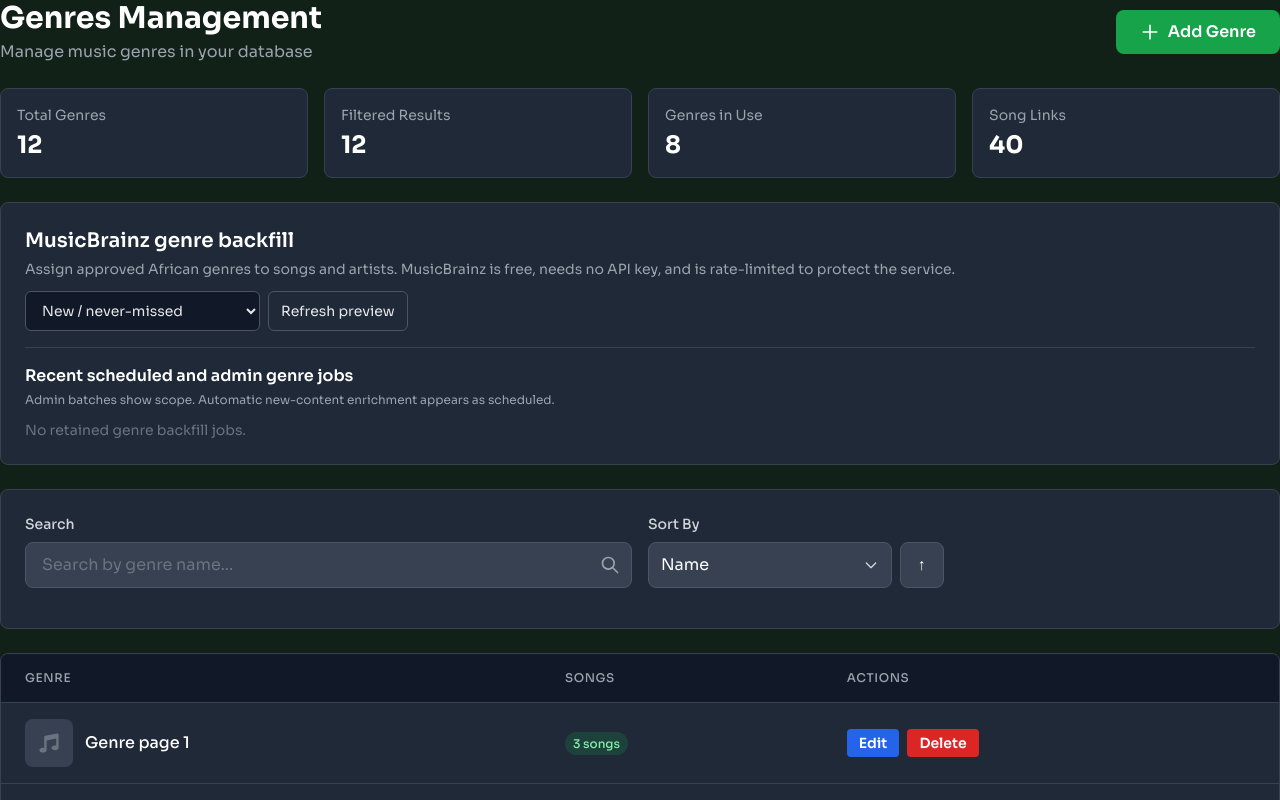
GenresManager › opens a row edit modal and saves changes through the admin API
This screenshot has width=1280, height=800.
Click the text "Genre page 1" at (137, 743), box [85, 731, 190, 755]
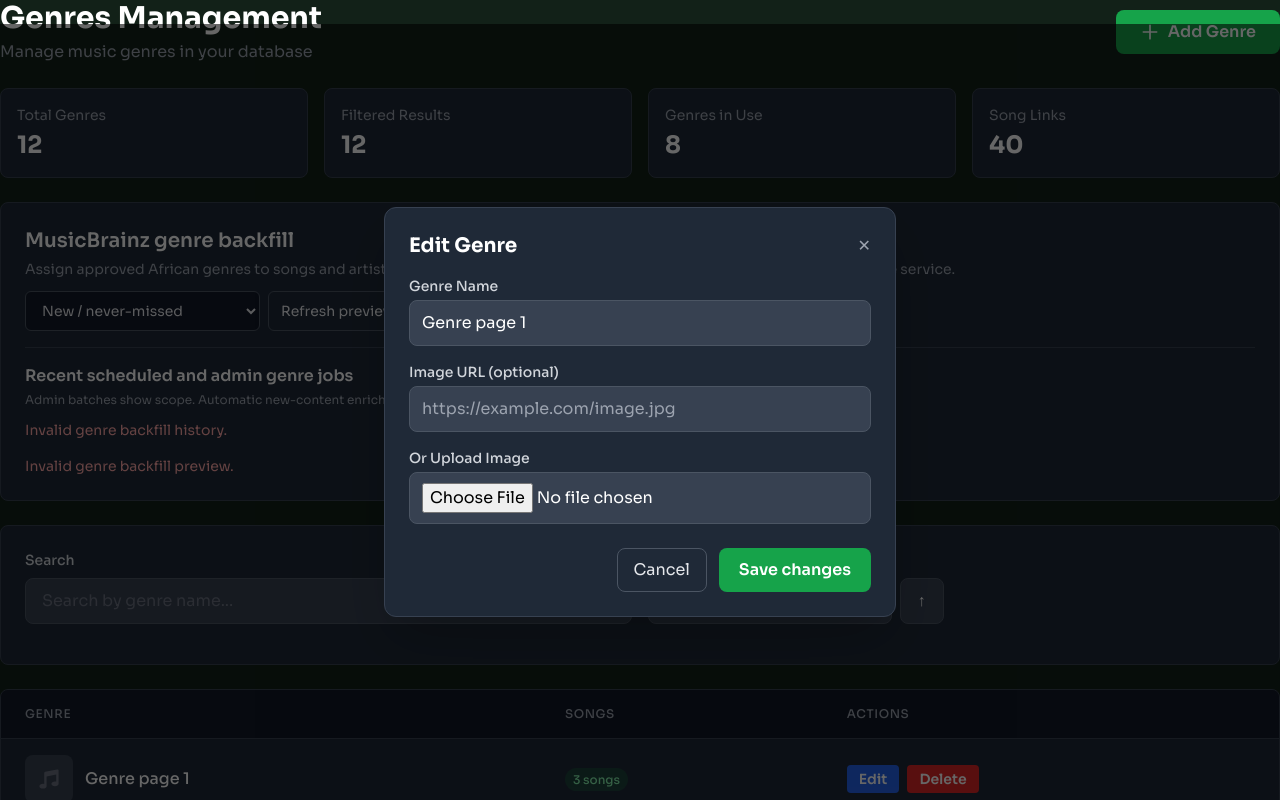
Replace the text in the field labelled "Genre Name" with "Renamed Genre" at (640, 323), box [409, 300, 871, 346]
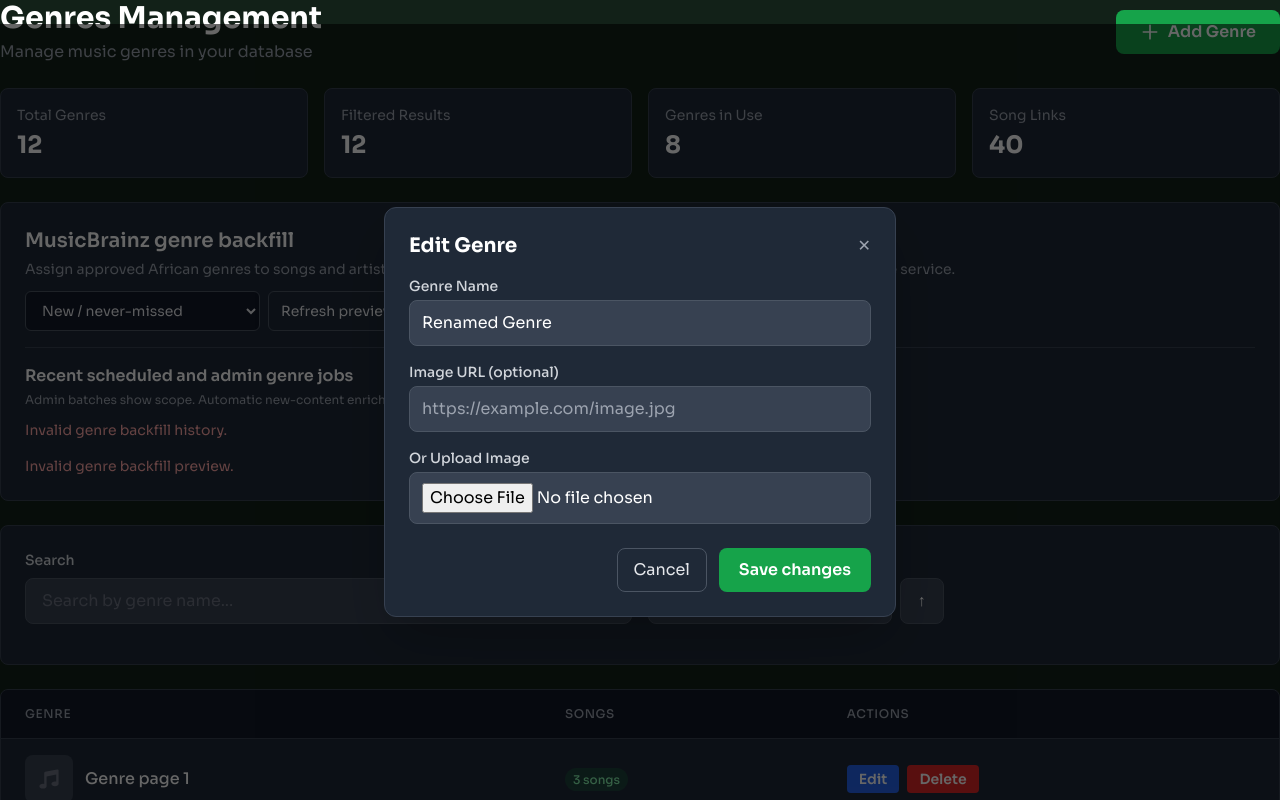
Click the button "Save changes" at (795, 570), box [719, 548, 871, 592]
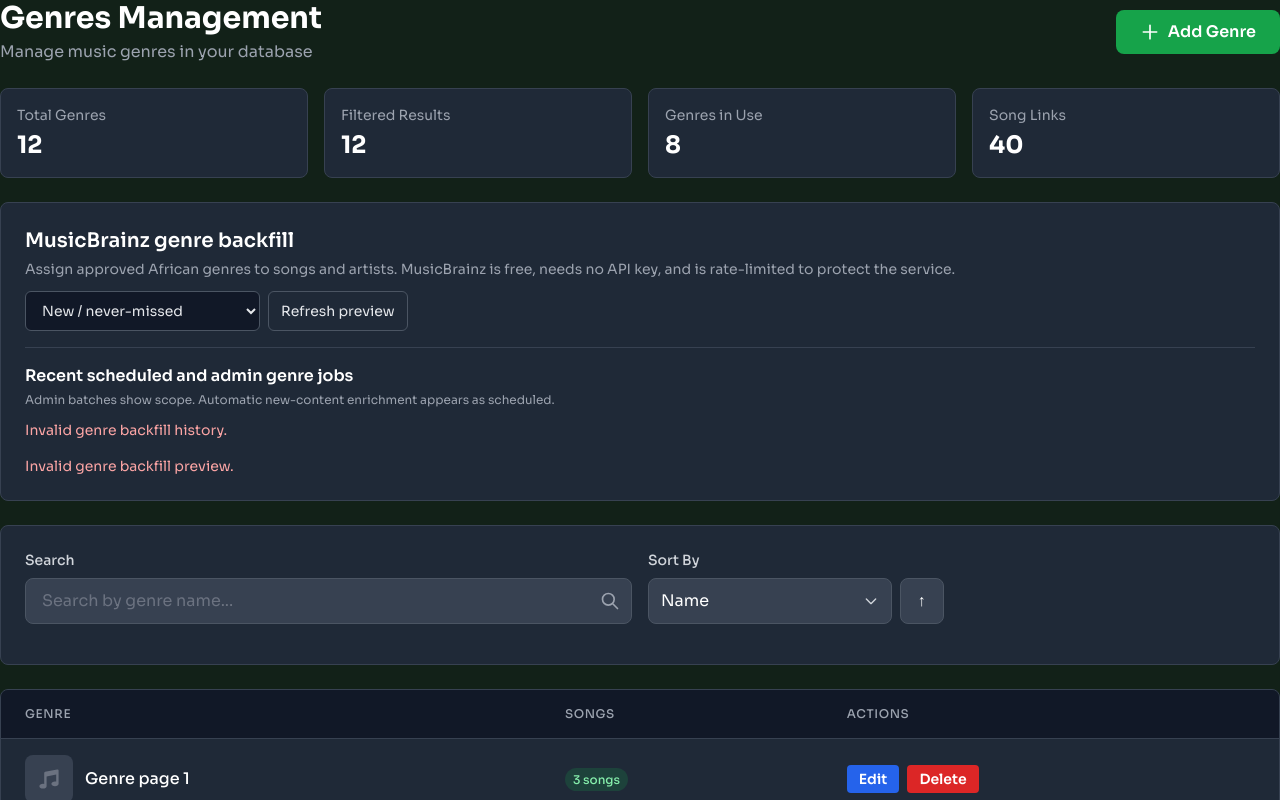
Now the heading "Edit Genre" is gone
